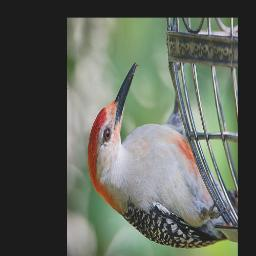Woodpecker: (88, 63, 238, 250)
